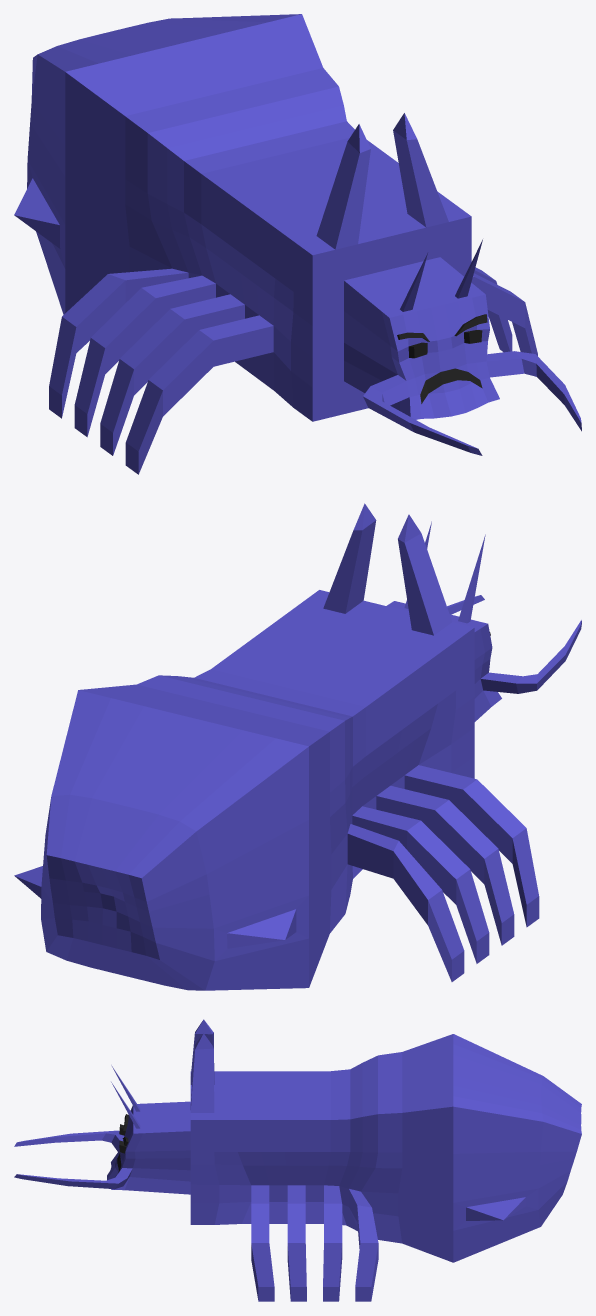
Rendered from Model_Attacker2.fbx.
3 renders of one model, top to bottom at view 1: azimuth 30°, elevation 25°; view 2: azimuth 150°, elevation 25°; view 3: azimuth 270°, elevation 25°, orthographic. The views are drawn at different scales.
Parts seen in each view (by area): view 1: Cube; view 2: Cube; view 3: Cube.
Part boxes in pixels (x1,y1,x2,y2): Cube: (14,14,581,474); Cube: (14,503,581,990); Cube: (14,1019,581,1301).
Size of the model in its own units: 332 by 270 by 649.
